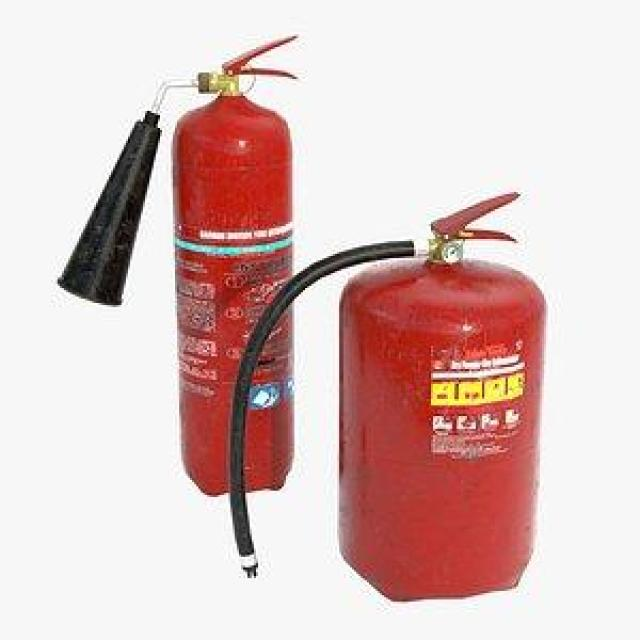fire_extinguisher: (218, 182, 552, 605), (48, 26, 304, 497)
